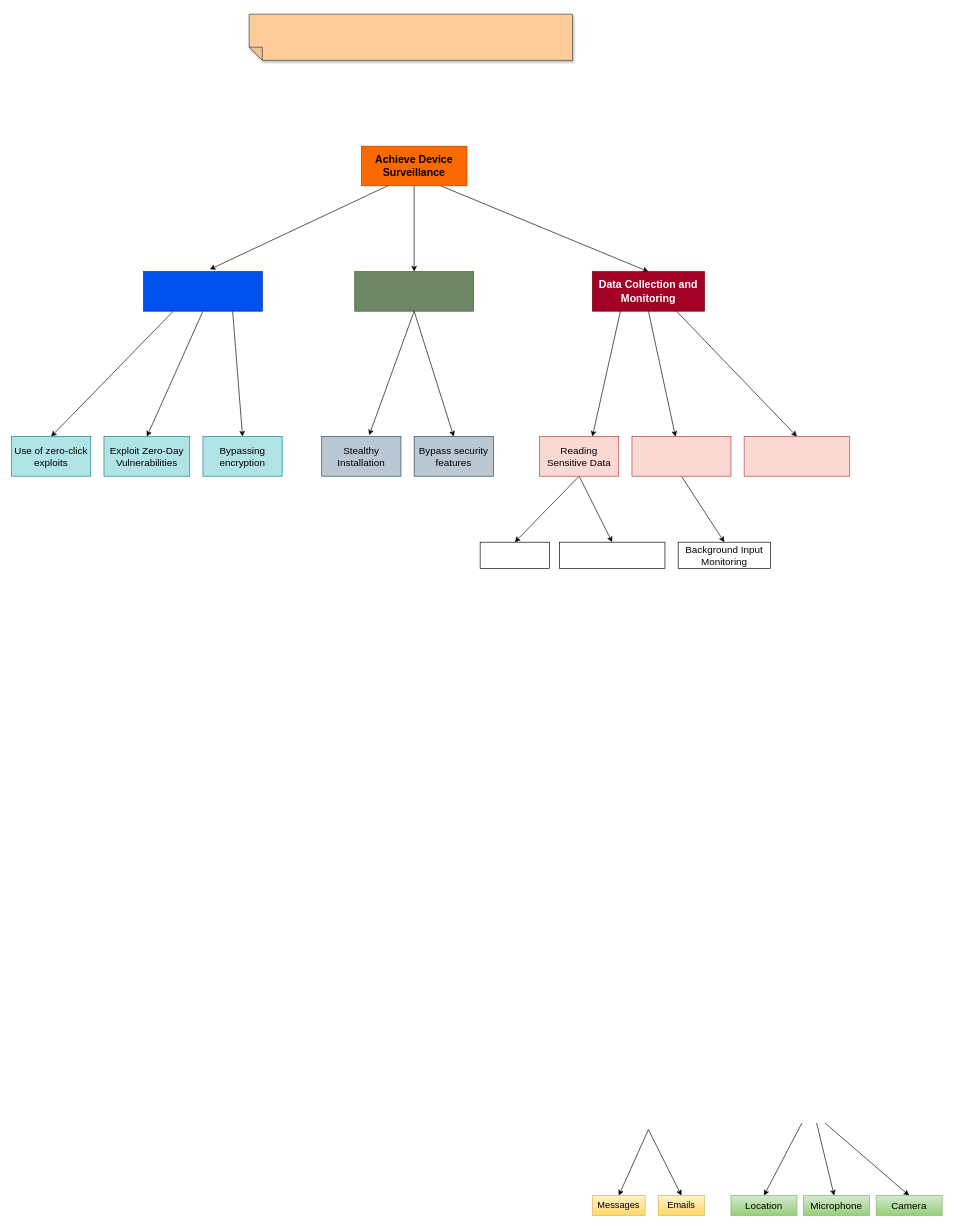
This 954x1227 diagram has some shape labels left out. The shapes that lost their labels are listed below. From the top down, each one's centre as x and y in pixels, then its label:
At point (411, 38): "Pegasus Attack Tree Diagram".
At point (202, 291): "Gain Access to device".
At point (414, 291): "Installation of Spyware".
At point (681, 456): "Accessing Device inputs".
At point (796, 456): "Exfiltrating data to external servers".
At point (514, 555): "Keylogging".
At point (612, 555): "Accessing cached data".
